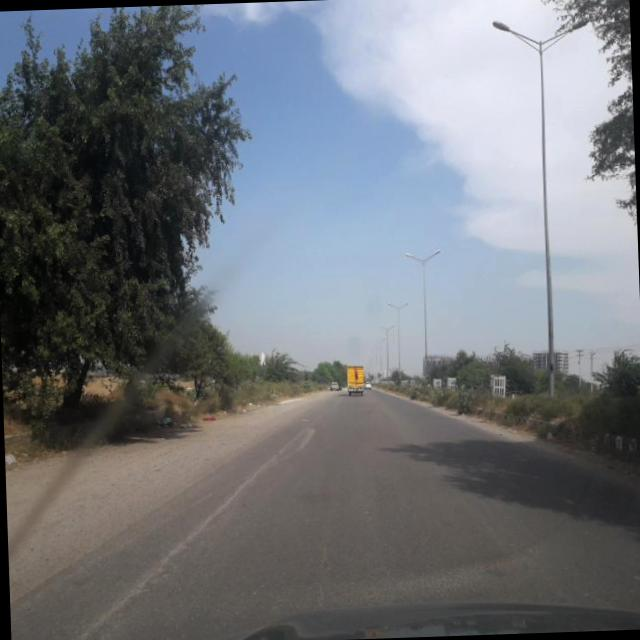crack: (64, 421, 314, 640)
